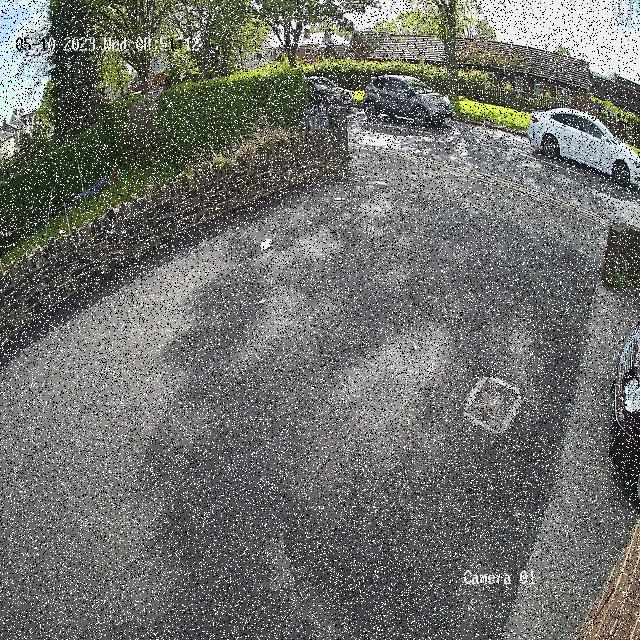vehicle: (519, 86, 640, 196), (354, 62, 459, 137), (302, 73, 349, 110)
